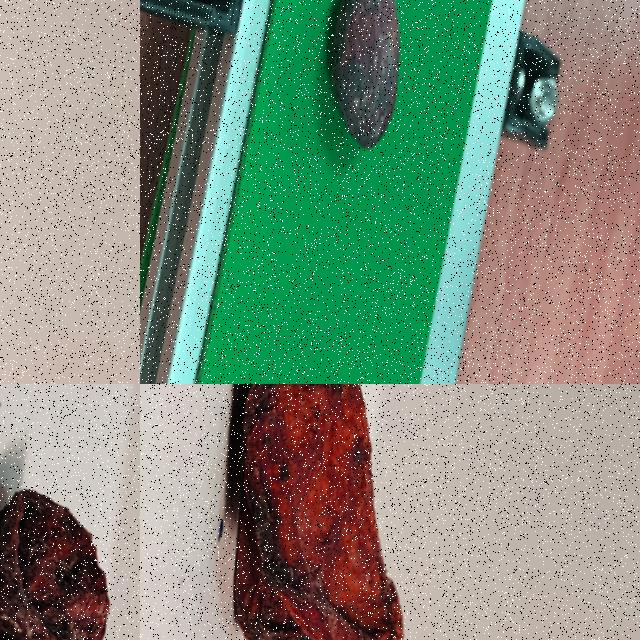Agglomerated_cocoabeans: (164, 384, 470, 639), (0, 384, 139, 639), (0, 0, 52, 383)
Fine_cocoabeans: (252, 0, 461, 244)
